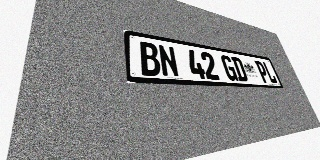2: (200, 51, 220, 80)
4: (186, 49, 207, 79)
B: (138, 41, 162, 76)
D: (231, 56, 249, 82)
G: (220, 55, 239, 81)
L: (262, 62, 278, 83)
N: (157, 44, 180, 78)
P: (254, 60, 271, 83)
